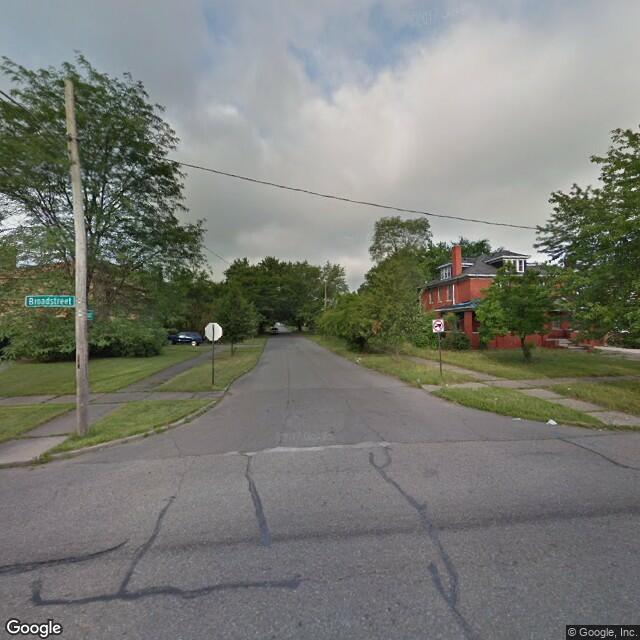litter: (544, 417, 560, 426), (354, 355, 363, 363), (509, 417, 520, 420), (416, 377, 421, 383), (443, 383, 451, 385)
